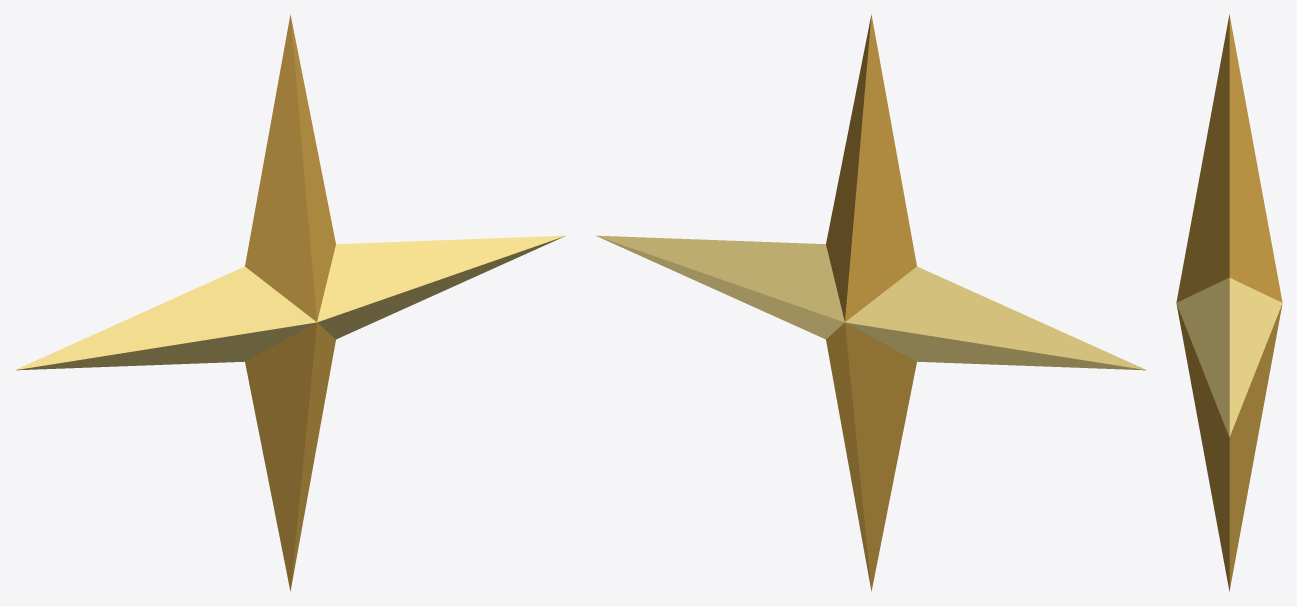
File: sparkle.glb
The picture shows the model from 3 angles, left to right: view 1: azimuth 30°, elevation 25°; view 2: azimuth 150°, elevation 25°; view 3: azimuth 270°, elevation 25°; orthographic projection.
Visible parts, largest first — view 1: sparkle; view 2: sparkle; view 3: sparkle.
Part boxes in pixels (x1,y1,x2,y2): sparkle: [15, 14, 565, 591]; sparkle: [596, 14, 1146, 591]; sparkle: [1176, 14, 1282, 591].
Bounding box in the file's own units: 0.03 × 0.03 × 0.005.
